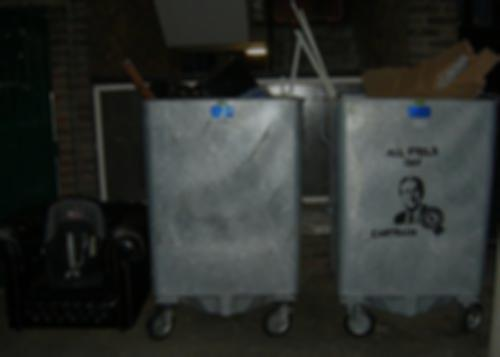Bote de Basura: (334, 95, 489, 333), (145, 102, 299, 330)
Otro Obstaculo: (47, 190, 103, 286)
